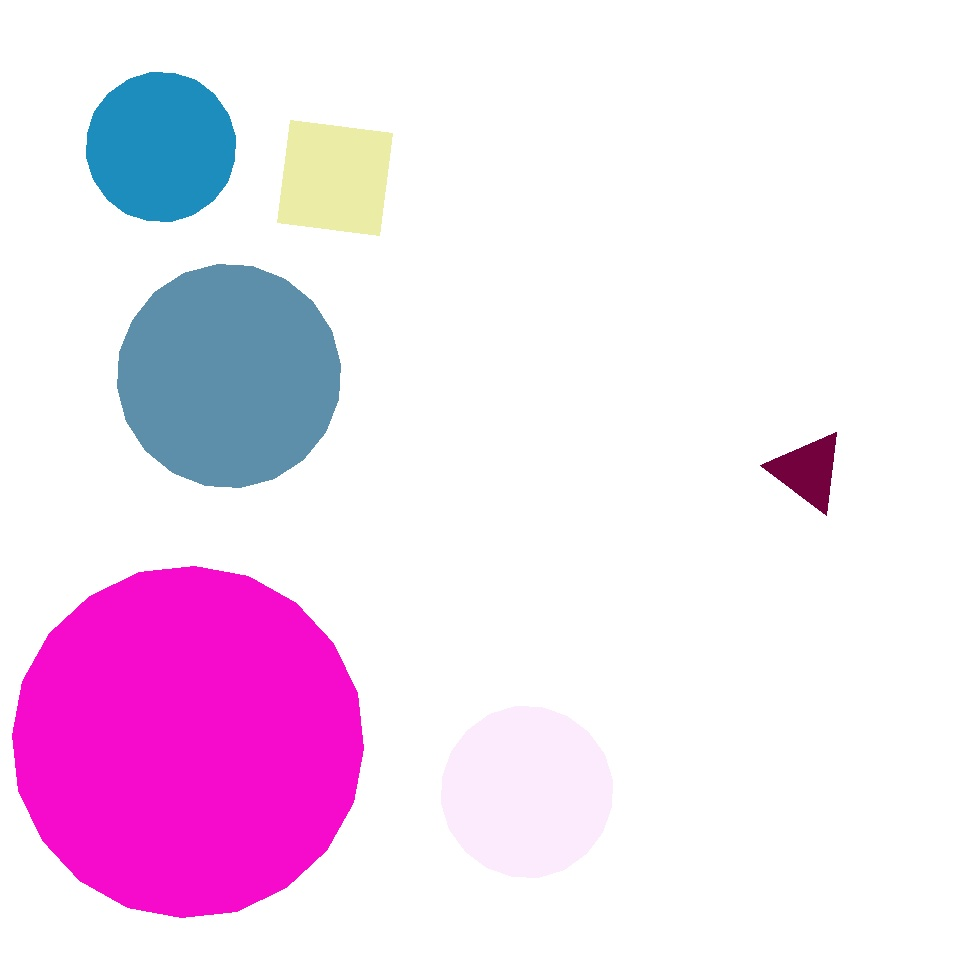circle: (770, 430, 846, 512)
square: (44, 584, 304, 845), (278, 120, 392, 236)
triangle: (13, 566, 364, 918), (535, 206, 774, 444), (118, 264, 341, 488), (442, 706, 612, 878), (86, 73, 236, 222)
